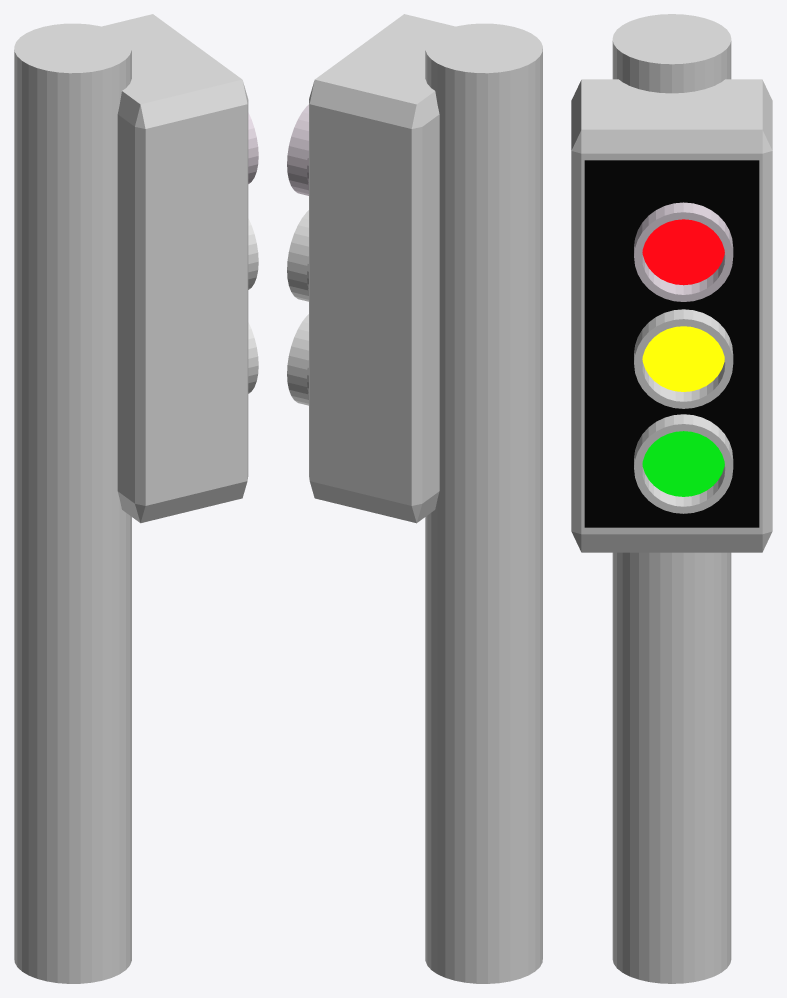
File: uk_traffic_light_1.fbx
The picture shows the model from 3 angles, left to right: view 1: azimuth 30°, elevation 25°; view 2: azimuth 150°, elevation 25°; view 3: azimuth 270°, elevation 25°; orthographic projection.
Visible parts, largest first — view 1: Cylinder, Cube, Circle.001, Circle.002, Circle; view 2: Cylinder, Cube, Circle, Circle.001, Circle.002; view 3: Cube, Cylinder, Circle.001, Circle.002, Circle.
Boxes of the visible parts, box(x1,y1,x2,y2) form: Cylinder: box(14, 23, 131, 983); Cube: box(102, 14, 248, 523); Circle.001: box(248, 218, 258, 289); Circle.002: box(248, 322, 258, 393); Circle: box(248, 112, 258, 183); Cylinder: box(425, 23, 542, 983); Cube: box(309, 14, 455, 523); Circle: box(287, 104, 308, 195); Circle.001: box(287, 210, 308, 301); Circle.002: box(287, 314, 308, 405); Cube: box(571, 79, 772, 552); Cylinder: box(612, 14, 731, 983); Circle.001: box(634, 309, 733, 408); Circle.002: box(634, 414, 733, 513); Circle: box(634, 202, 733, 301).
Size of the model in its own units: 7.69 by 30.7 by 6.09.
